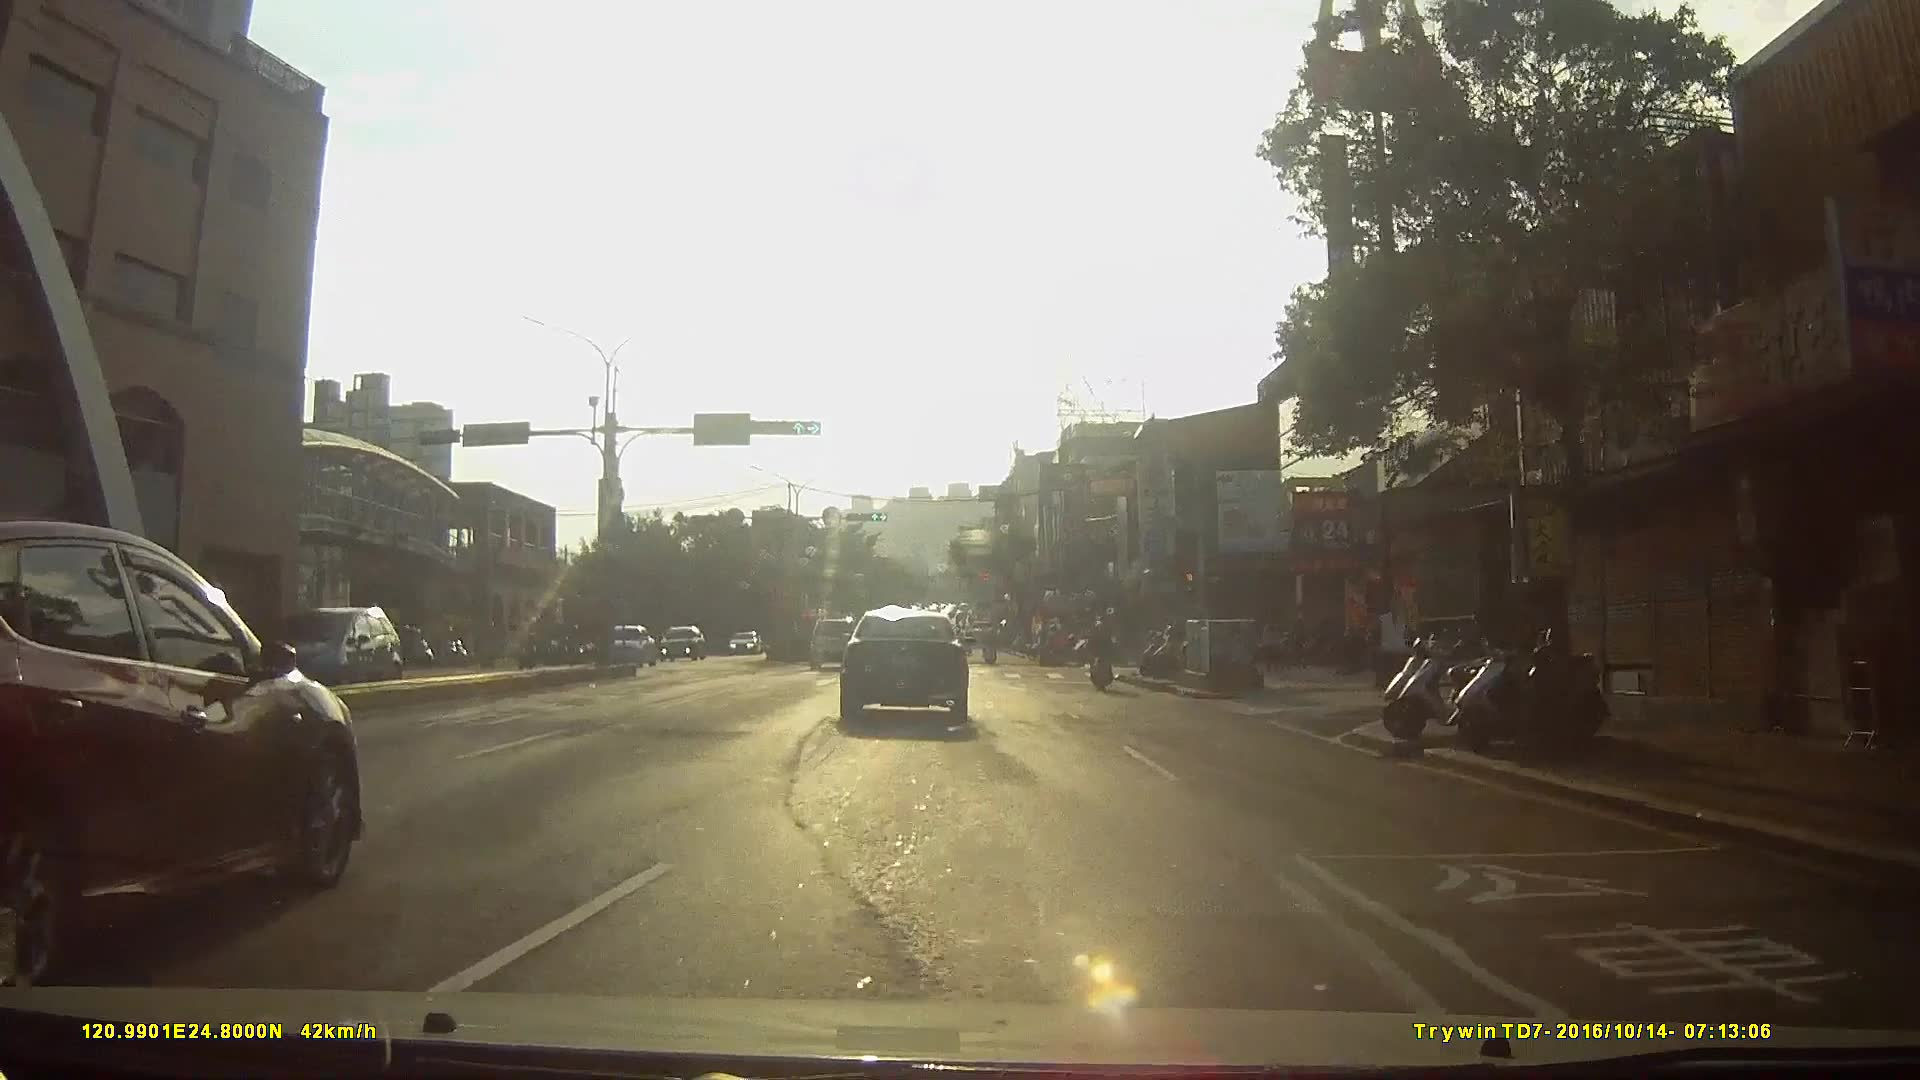pedestrian: (1368, 592, 1415, 707)
rider: (387, 623, 438, 672), (1086, 620, 1114, 694), (1037, 624, 1073, 669), (981, 625, 1001, 667)
vehicle: (1, 521, 372, 992), (837, 610, 984, 735), (245, 600, 410, 699), (806, 617, 865, 672), (597, 625, 661, 670), (659, 623, 709, 664), (726, 628, 764, 657)
